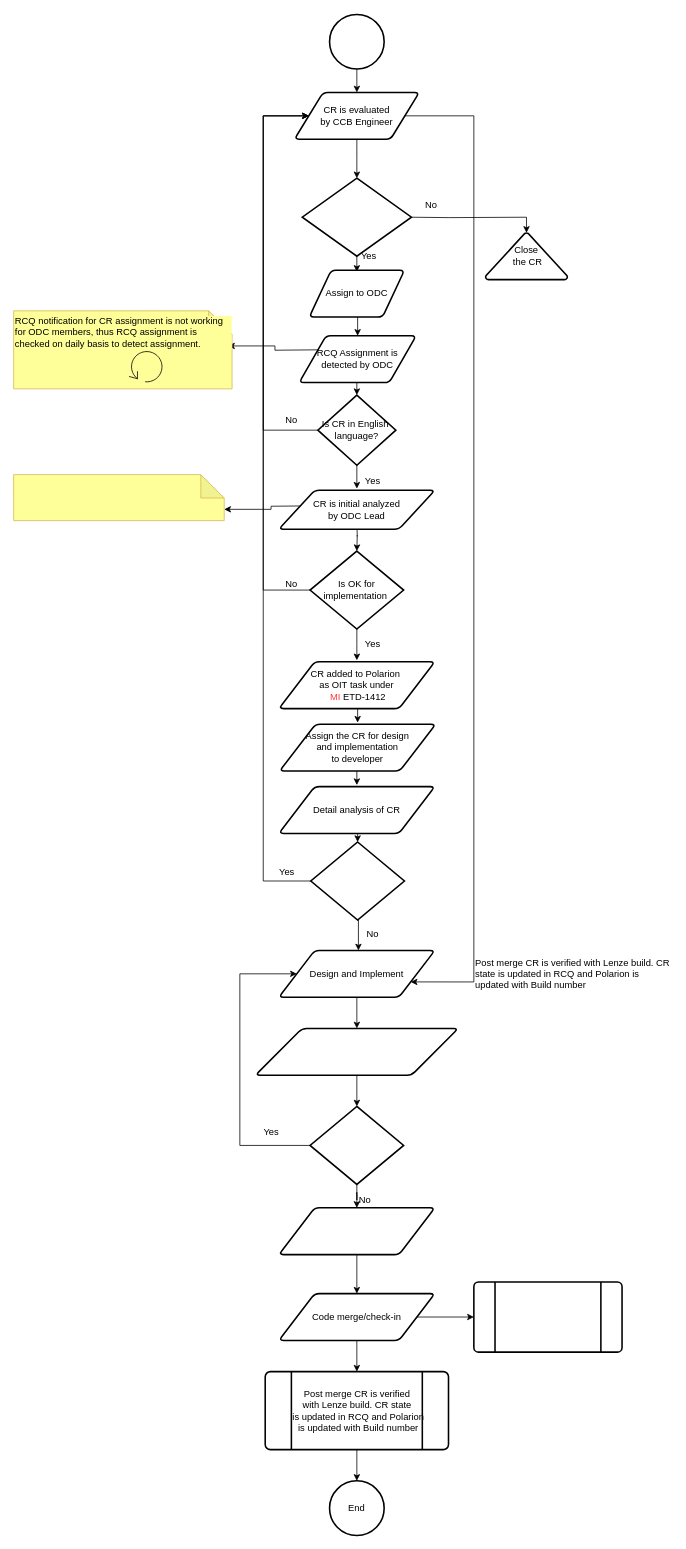
The diagram is 686 pixels wide and 1549 high, and some of its shapes have lost their labels. Here are the shapes that lost their labels. From the top down, the centre of each, then its label:
At (x=356, y=41): "CR created in RCQ".
At (x=356, y=217): "Is OK implementation?".
At (x=118, y=497): "RCQ is assigned back to CCB engineer, in case of a query with In-Review state.".
At (x=357, y=880): "Is there any query?".
At (x=356, y=1051): "Assigned to test team member for test. CR sate is updated in RCQ as In-Test".
At (x=356, y=1145): "Is there any Issue?".
At (x=356, y=1231): "Assign to Dev team for code merge/check-in".
At (x=547, y=1317): "Polarion is updated to mark Code Merge status".
